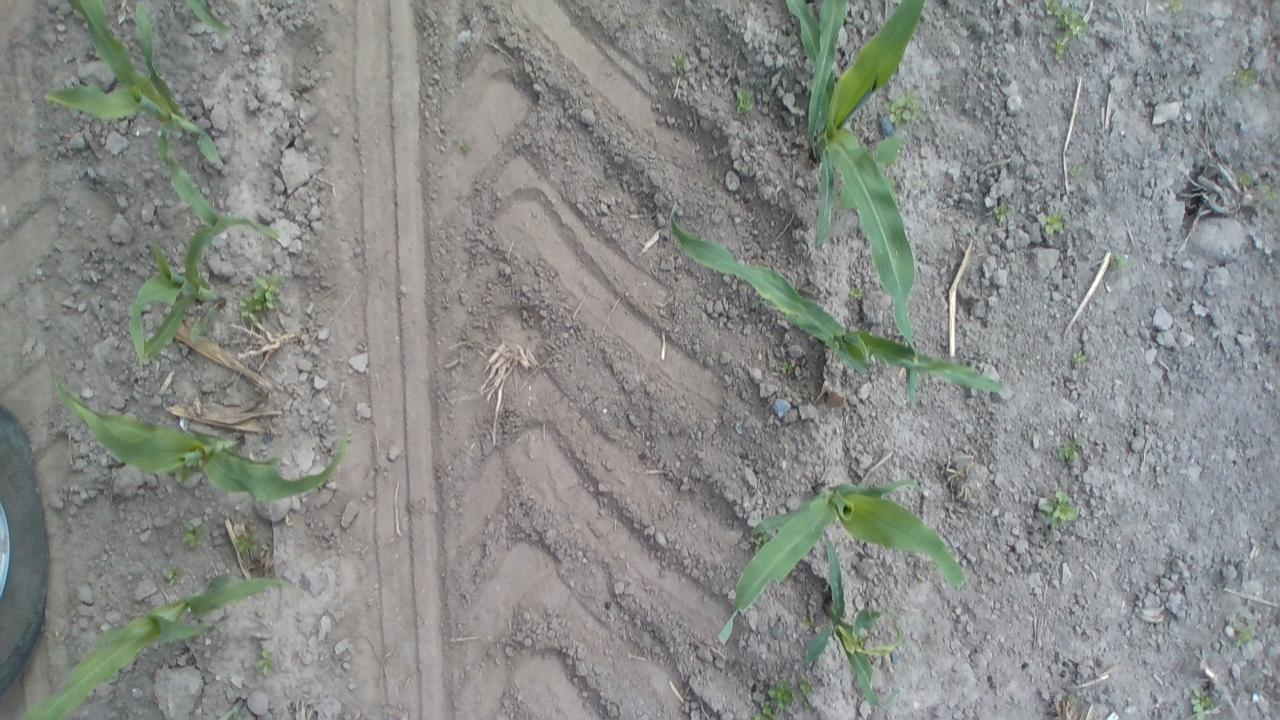Maize: (658, 192, 1012, 397), (778, 0, 932, 341), (711, 457, 976, 651), (35, 0, 234, 235), (54, 364, 358, 510), (15, 568, 305, 720), (112, 219, 288, 362), (801, 534, 904, 712), (180, 0, 243, 41)
Weeds: (1038, 0, 1096, 62), (238, 268, 294, 322), (754, 672, 816, 718), (1032, 486, 1084, 536), (874, 132, 912, 189), (1234, 169, 1280, 210), (882, 92, 928, 127), (1054, 430, 1092, 468), (1034, 204, 1069, 242), (1230, 62, 1264, 98), (1185, 688, 1220, 720), (235, 532, 268, 560), (987, 198, 1019, 224), (669, 48, 698, 76), (252, 647, 276, 680), (1066, 348, 1092, 378), (183, 520, 209, 548), (452, 130, 476, 159), (1102, 250, 1130, 274), (1232, 624, 1256, 649), (1061, 158, 1086, 182), (730, 85, 753, 111), (835, 186, 857, 213), (778, 358, 799, 384), (161, 569, 189, 586), (848, 284, 868, 302), (1166, 0, 1190, 13)
